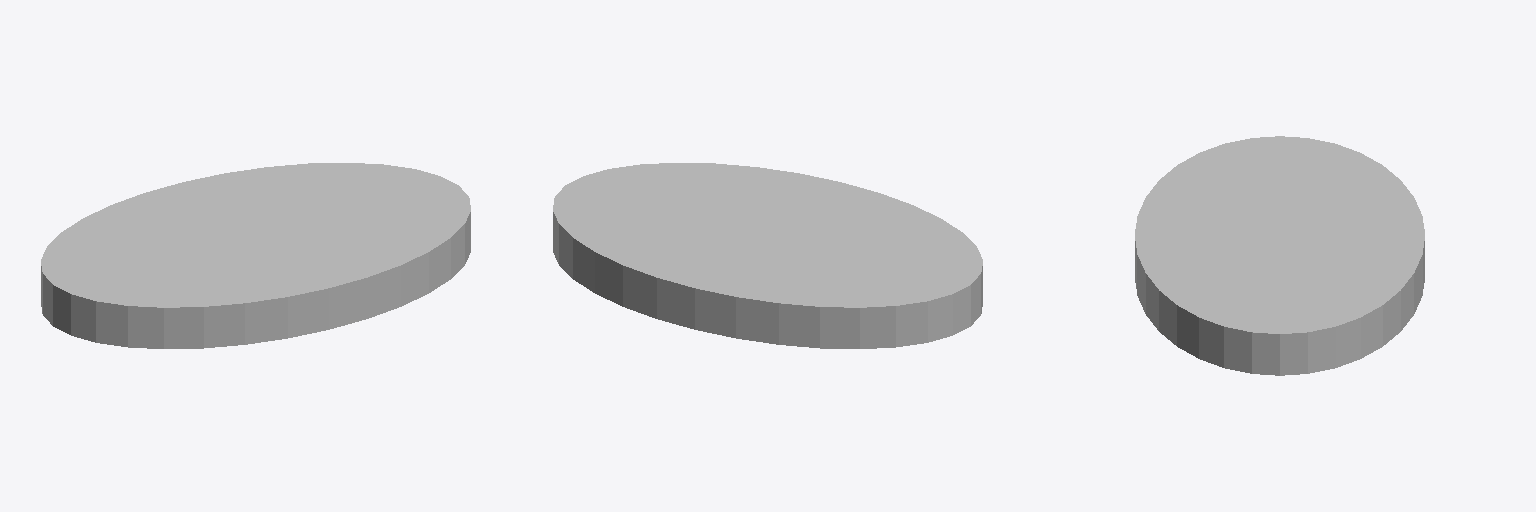
The model's file is Key_Oval.obj.
The picture shows the model from 3 angles: view 1: azimuth 30°, elevation 25°; view 2: azimuth 150°, elevation 25°; view 3: azimuth 270°, elevation 25°; orthographic projection.
Parts seen in each view (by area): view 1: Key_Oval_Cylinder; view 2: Key_Oval_Cylinder; view 3: Key_Oval_Cylinder.
Boxes of the visible parts, <box> form: Key_Oval_Cylinder: <box>41,163,470,348</box>; Key_Oval_Cylinder: <box>553,163,982,348</box>; Key_Oval_Cylinder: <box>1135,136,1424,375</box>.
Bounding box in the file's own units: 20.46 × 2 × 12.68.